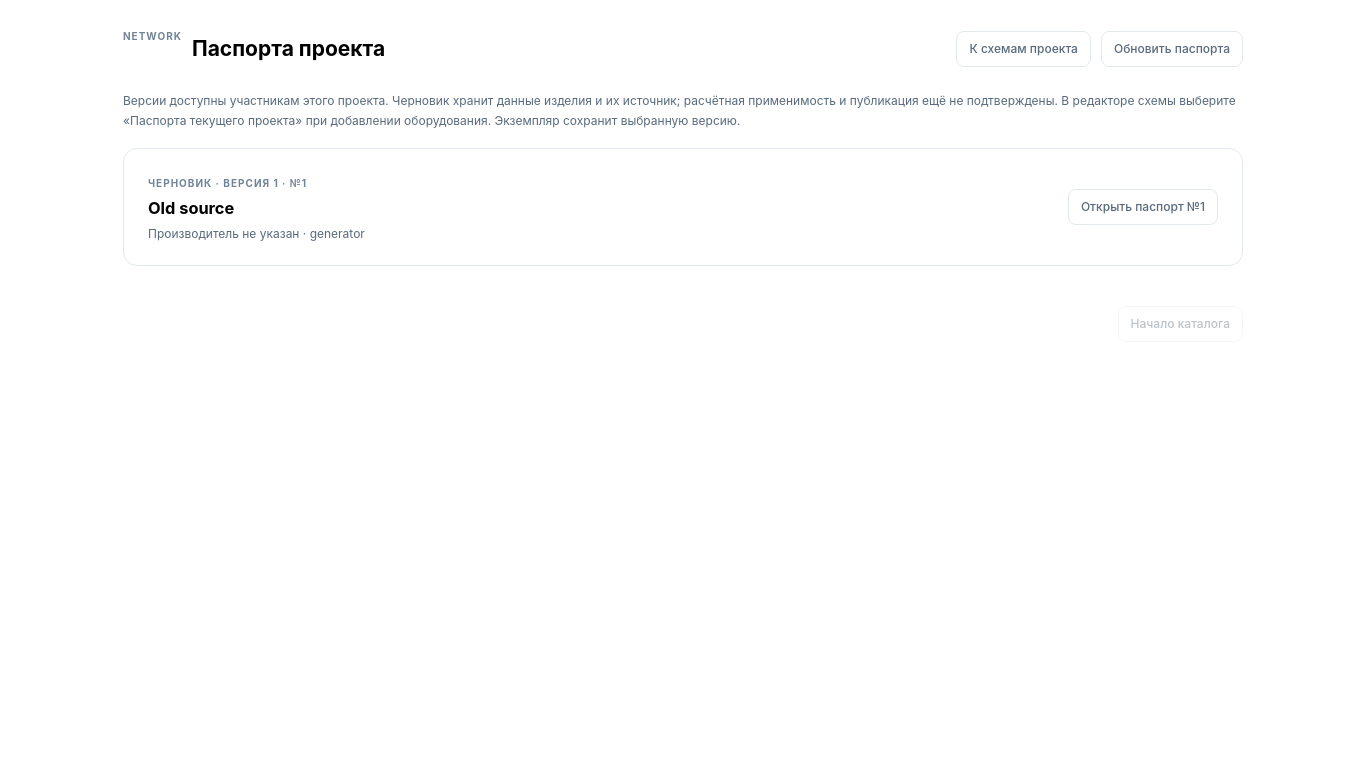
Scenario: viewer reads stored parameters and cannot create, revise or clone
Click the button "Открыть паспорт №1". click: (1143, 207)
box: [1068,189,1218,225]
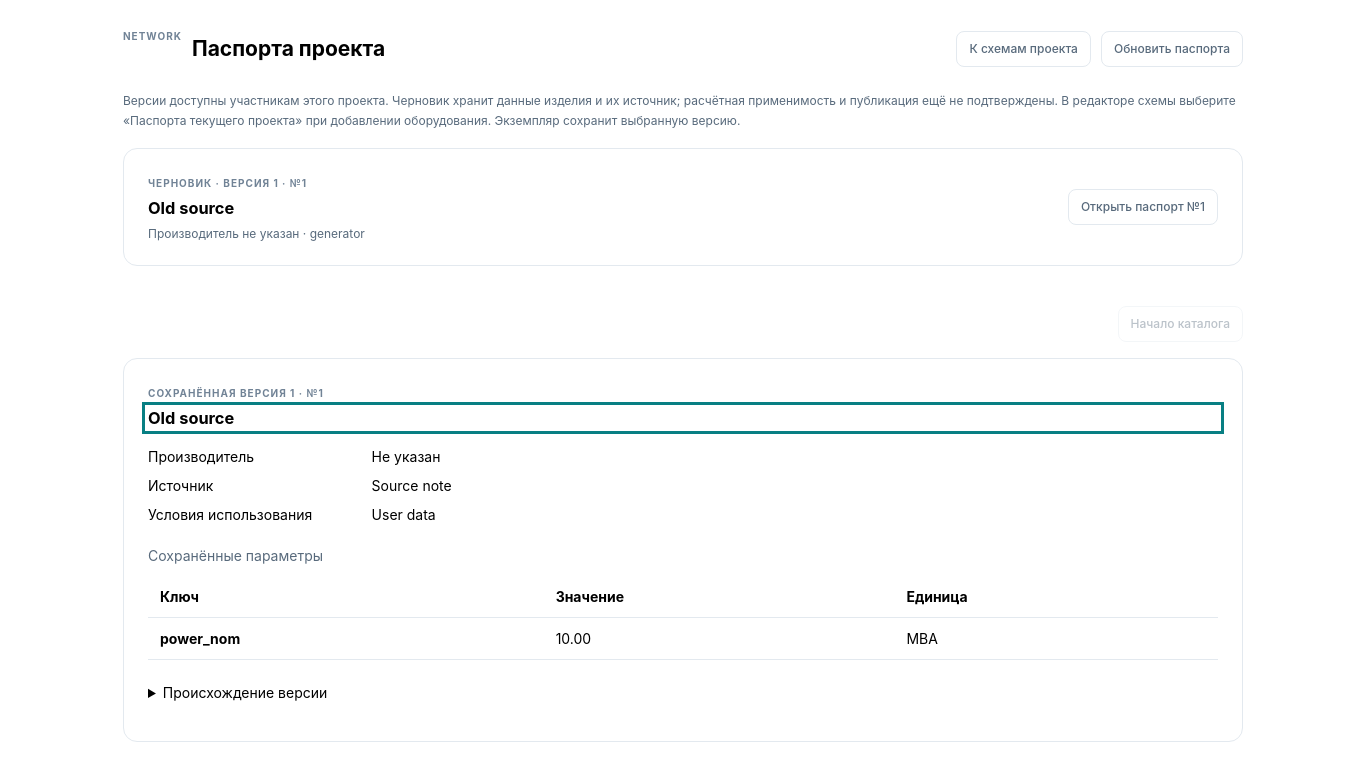
Now the text "10.00" is shown, box [544,617,894,659]
